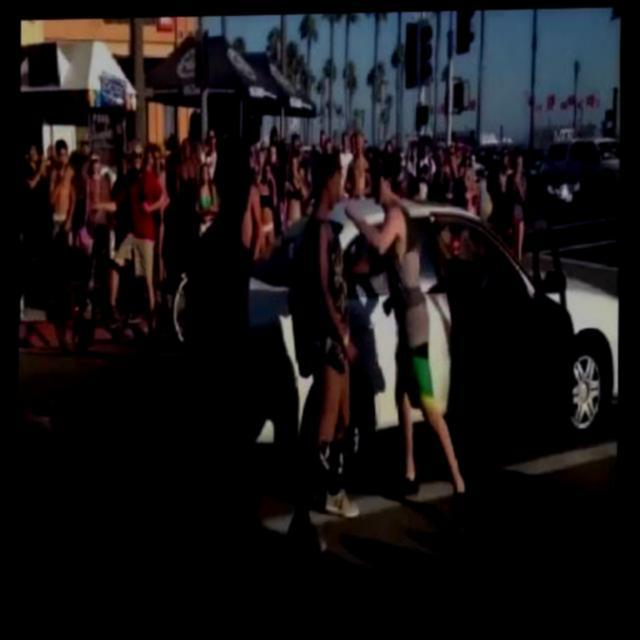fight: (295, 152, 475, 566)
